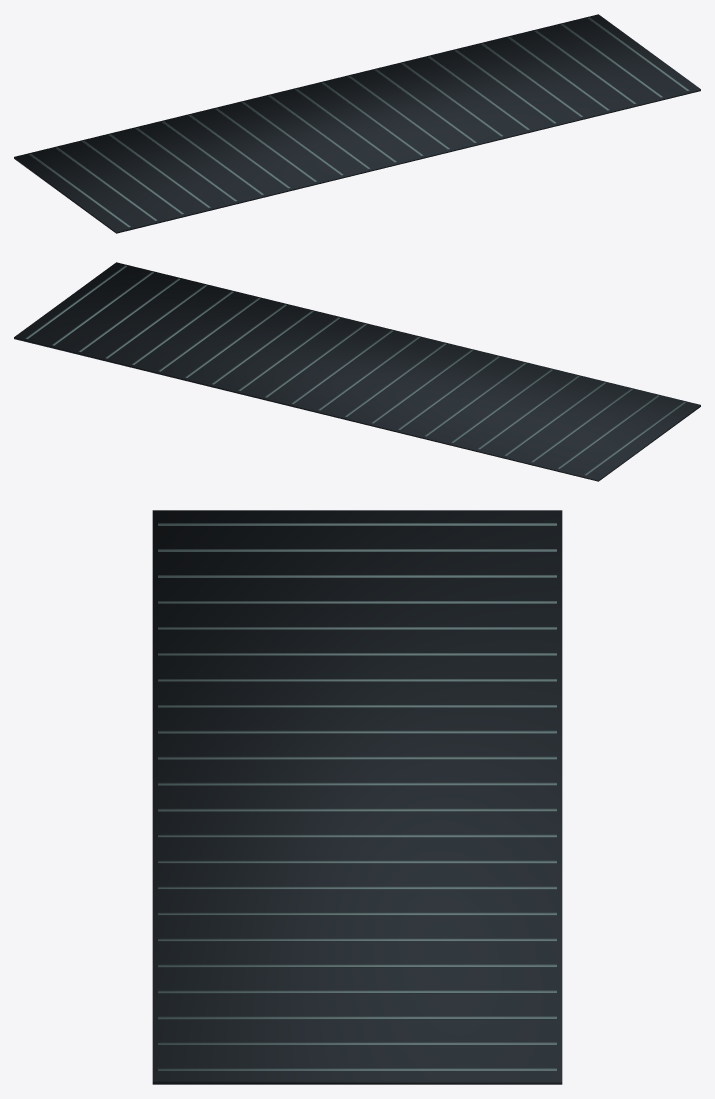
Rendered from door_belt_contact.dae.
3 views of the same model, one above another, from view 1: azimuth 30°, elevation 25°; view 2: azimuth 150°, elevation 25°; view 3: azimuth 270°, elevation 25° (orthographic). The views are drawn at different scales.
Parts seen in each view (by area): view 1: contact; view 2: contact; view 3: contact, texture_-0.219, texture_-0.129, texture_-0.039, texture_0.051, texture_0.141, texture_0.231, texture_0.321, texture_0.411, texture_0.501, texture_0.591, texture_0.681 (+11 smaller).
Boxes of the visible parts, box(x1,y1,x2,y2) form: contact: box(14, 14, 700, 233); contact: box(14, 262, 700, 481); contact: box(152, 510, 562, 1084); texture_-0.219: box(158, 730, 556, 733); texture_-0.129: box(158, 756, 556, 759); texture_-0.039: box(158, 782, 556, 785); texture_0.051: box(158, 808, 556, 811); texture_0.141: box(158, 834, 556, 837); texture_0.231: box(158, 860, 556, 863); texture_0.321: box(158, 886, 556, 889); texture_0.411: box(158, 912, 556, 915); texture_0.501: box(158, 938, 556, 941); texture_0.591: box(158, 964, 556, 967); texture_0.681: box(158, 990, 556, 993).
Size of the model in its own units: 1.98 by 0.6 by 0.0068.
